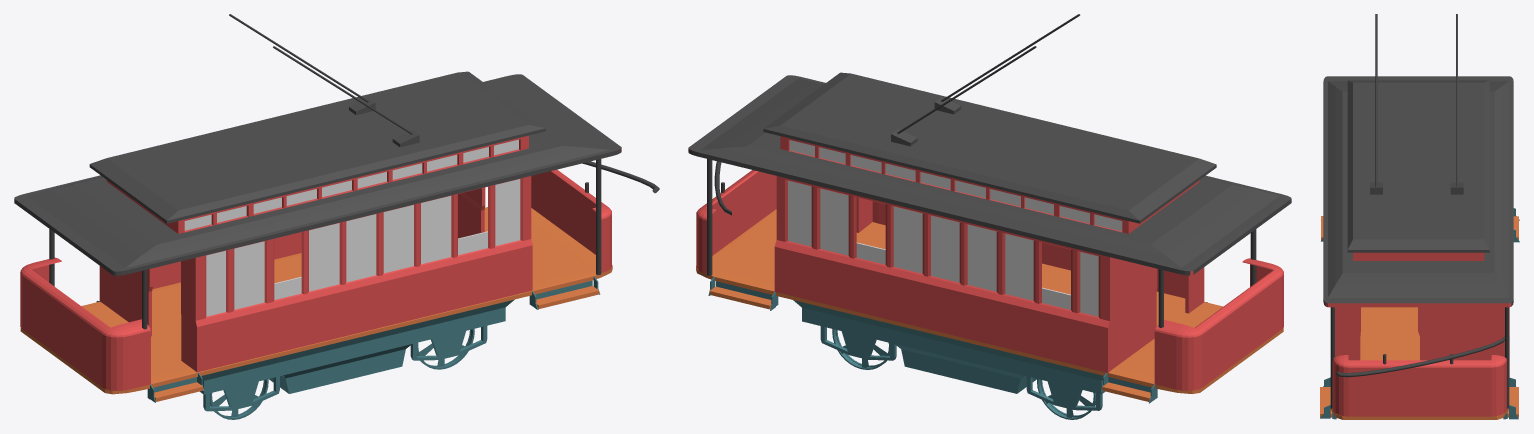
Rendered from oldTram1.fbx.
3 views of the same model, side by side, from view 1: azimuth 30°, elevation 25°; view 2: azimuth 150°, elevation 25°; view 3: azimuth 270°, elevation 25° (orthographic). The views are drawn at different scales.
Parts seen in each view (by area): view 1: Cube.004, Cube.001, Cube, Cube.002, Cube.003, Cube.006, Cube.005, Cylinder.001; view 2: Cube.004, Cube.001, Cube, Cube.002, Cube.003, Cube.008, Cube.007, Cylinder, Cylinder.011; view 3: Cube.004, Cube.003, Cube.001, Cube, BezierCurve, Cylinder.013, Cylinder, Cylinder.001, Cylinder.012.
Part boxes in pixels (x1,y1,x2,y2): Cube.004: (14, 71, 621, 275); Cube.001: (99, 176, 532, 372); Cube: (20, 207, 612, 402); Cube.002: (20, 257, 150, 390); Cube.003: (531, 169, 611, 272); Cube.006: (410, 326, 487, 360); Cube.005: (203, 376, 279, 411); Cylinder.001: (596, 159, 601, 274); Cube.004: (688, 72, 1291, 275); Cube.001: (774, 176, 1204, 372); Cube: (696, 209, 1283, 403); Cube.002: (1154, 258, 1283, 390); Cube.003: (696, 170, 776, 273); Cube.008: (820, 326, 896, 360); Cube.007: (1026, 376, 1102, 410); Cylinder: (707, 159, 712, 275); Cylinder.011: (1037, 379, 1095, 419); Cube.004: (1323, 76, 1513, 307); Cube.003: (1332, 355, 1506, 416); Cube.001: (1335, 307, 1509, 377); Cube: (1320, 208, 1519, 419); BezierCurve: (1336, 336, 1504, 377); Cylinder.013: (1375, 14, 1377, 186); Cylinder: (1505, 307, 1509, 408); Cylinder.001: (1330, 307, 1334, 408); Cylinder.012: (1456, 14, 1457, 186).
Bounding box in the file's own units: 1184 × 721 × 404.
